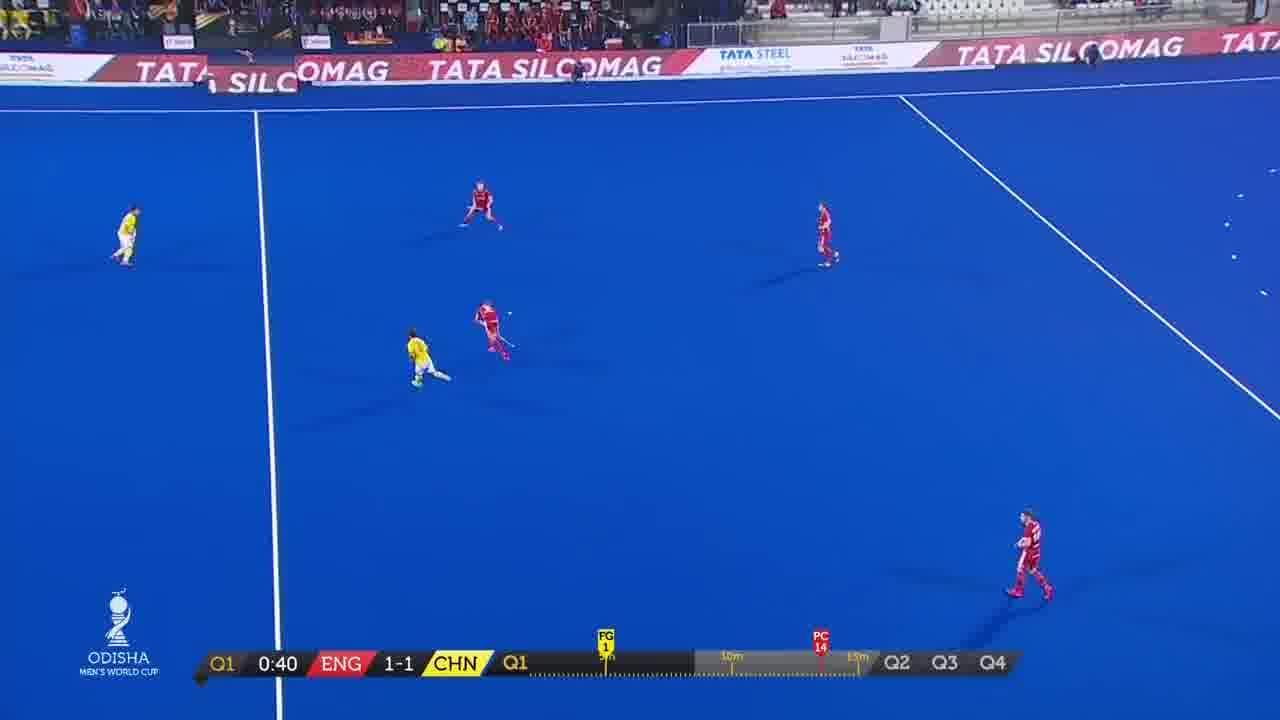ball: (494, 221, 506, 234)
